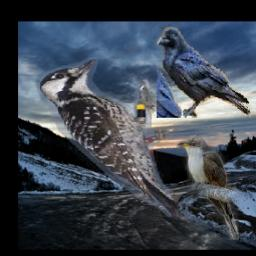Crow: (158, 27, 253, 119)
Cuckoo: (177, 135, 239, 240)
Woodpecker: (38, 58, 180, 218)
